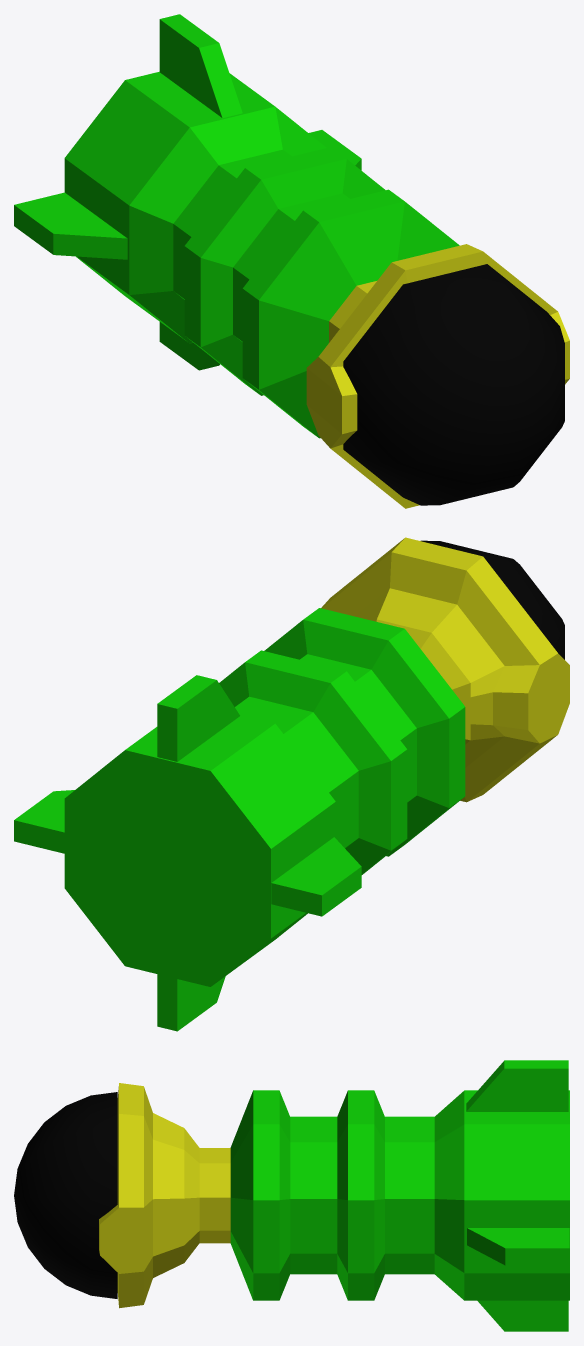
The model's file is TowerSmall2.fbx.
3 renders of one model, top to bottom at view 1: azimuth 30°, elevation 25°; view 2: azimuth 150°, elevation 25°; view 3: azimuth 270°, elevation 25°, orthographic. The views are drawn at different scales.
Visible parts, largest first — view 1: Body; view 2: Body; view 3: Body.
Boxes of the visible parts, bbox=[...] form: Body: bbox=[14, 14, 569, 508]; Body: bbox=[14, 537, 569, 1031]; Body: bbox=[14, 1060, 569, 1331].
Size of what is drawn, in the model's own units: 1518 by 1518 by 2909.
